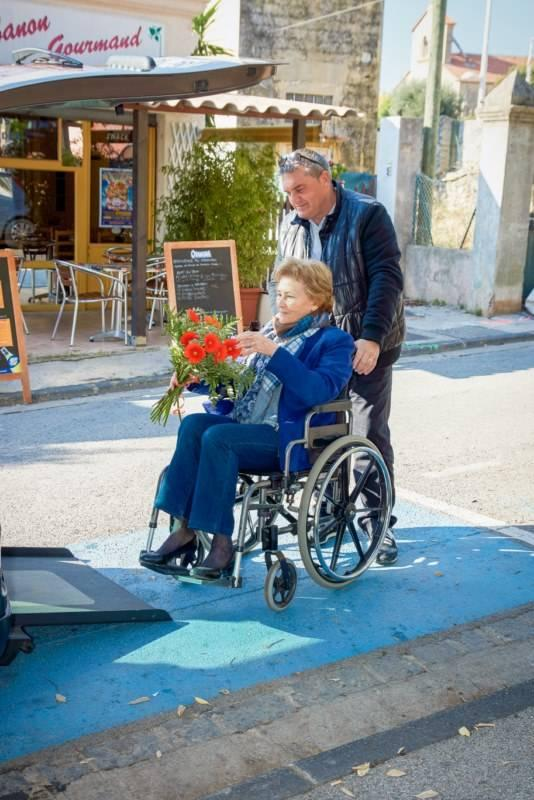push_wheelchair: (267, 148, 406, 567)
wheelchair: (139, 256, 393, 612)
